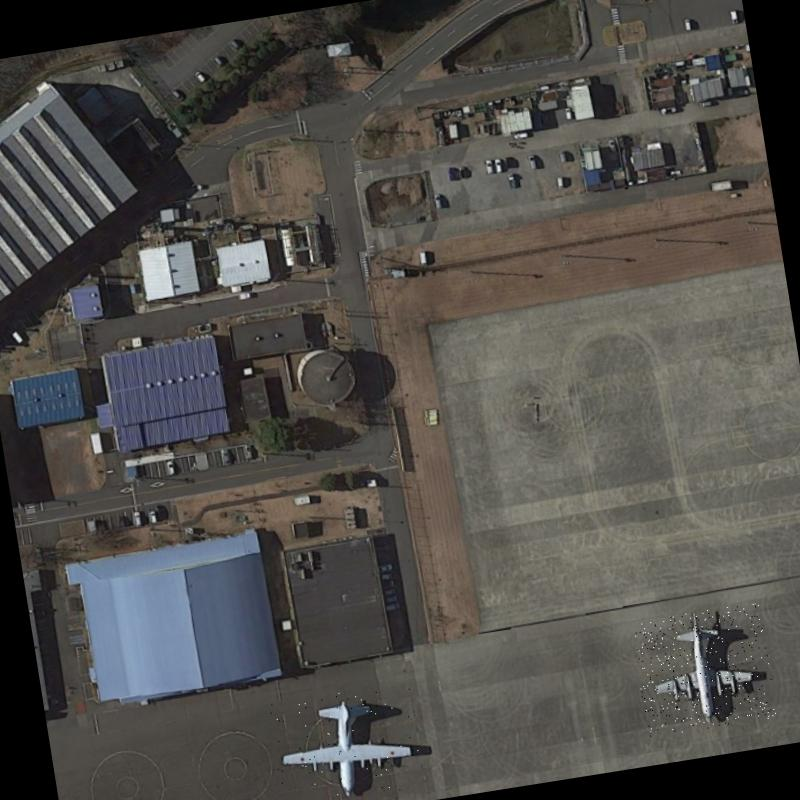A2: (265, 681, 425, 800)
A9: (630, 602, 778, 738)
